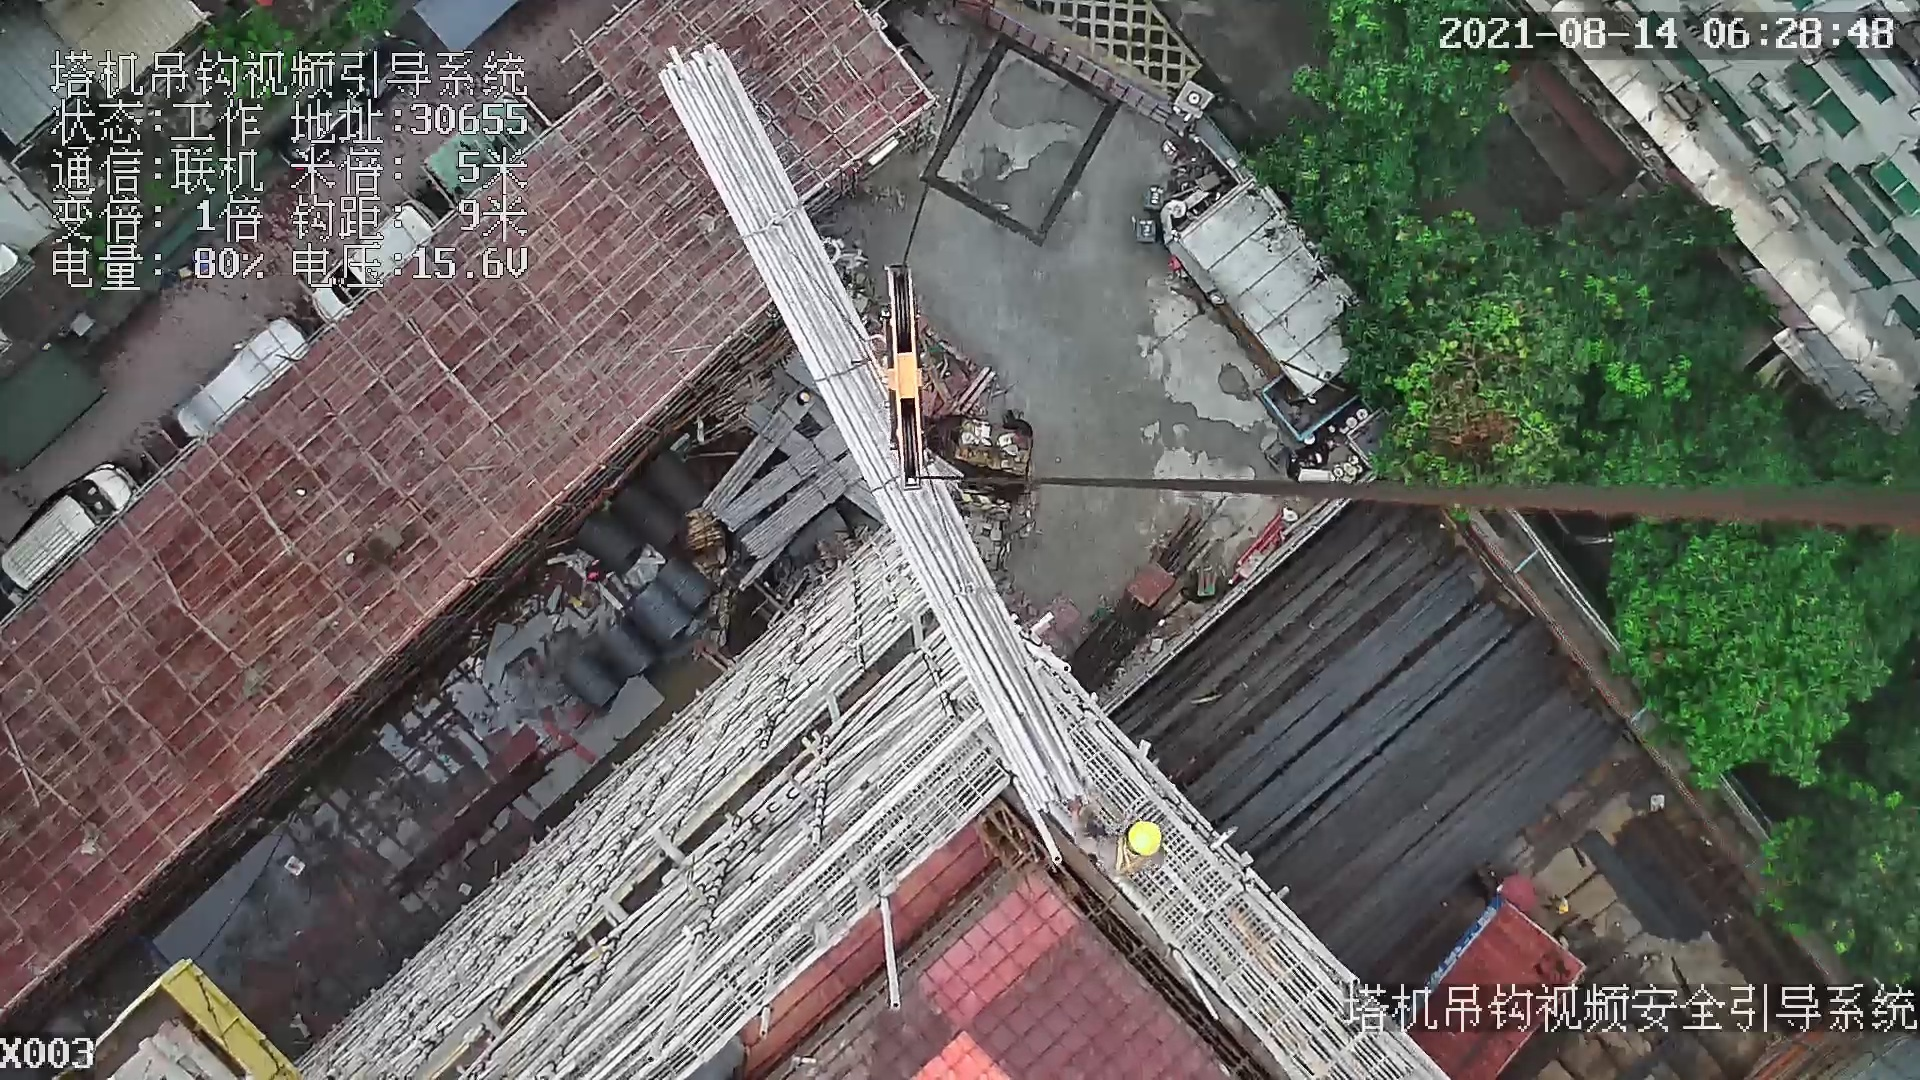helmet: (1127, 814, 1164, 867)
hook: (877, 263, 928, 494)
person: (1070, 800, 1164, 882)
